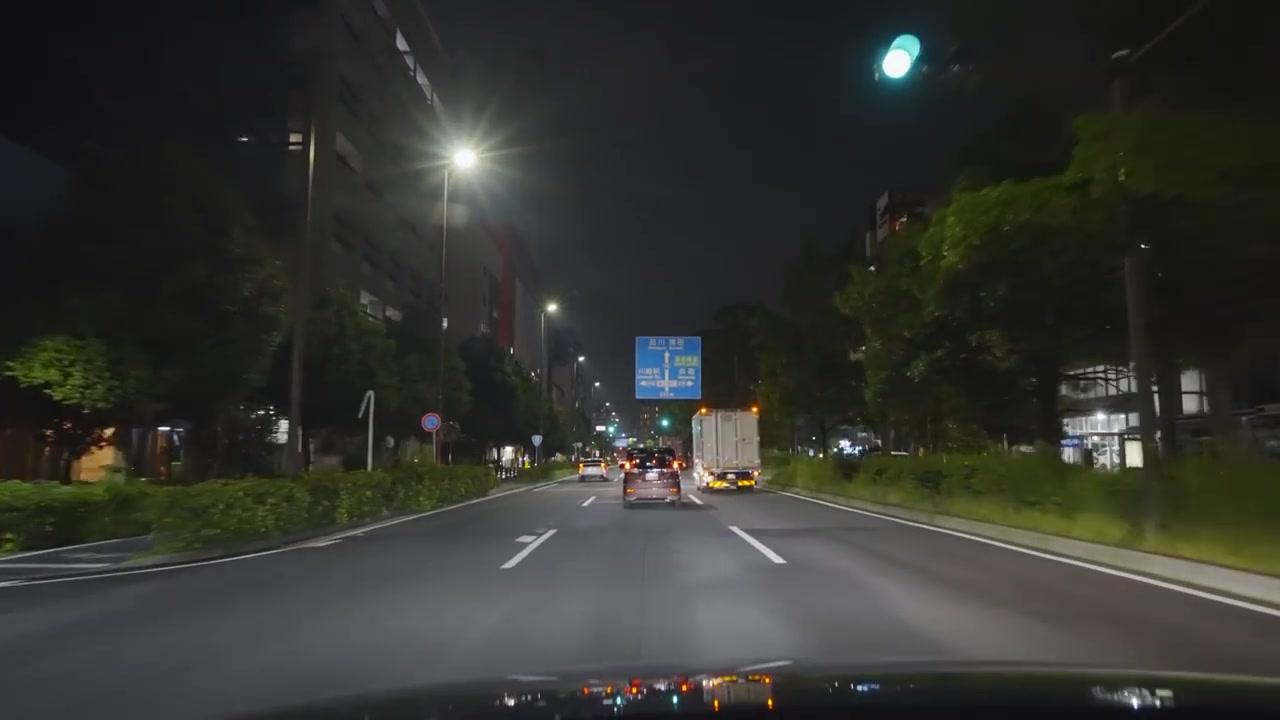car: (622, 463, 682, 510), (578, 460, 609, 480)
stop sign: (420, 412, 440, 433)
traffic light: (421, 411, 441, 433), (750, 403, 760, 415)
truck: (692, 410, 761, 492)
